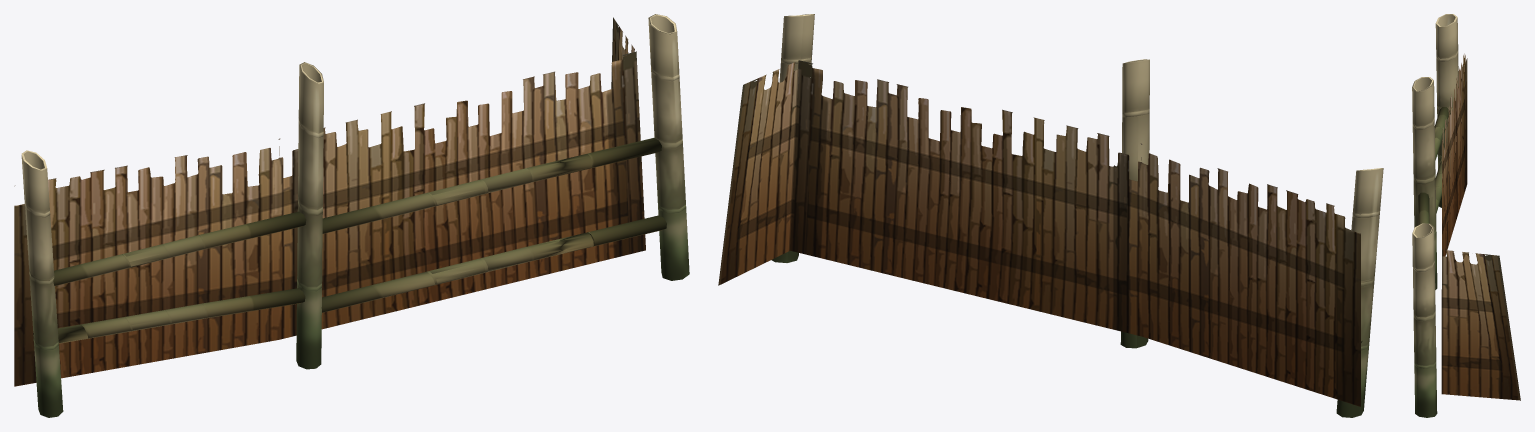
File: hang-rao-ngang.fbx
3 renders of one model, left to right at view 1: azimuth 30°, elevation 25°; view 2: azimuth 150°, elevation 25°; view 3: azimuth 270°, elevation 25°, orthographic. The views are drawn at different scales.
Parts seen in each view (by area): view 1: polySurface24, polySurface19, polySurface18, polySurface20, polySurface10, polySurface9, polySurface11, polySurface12; view 2: polySurface24, polySurface20, polySurface19, polySurface18; view 3: polySurface24, polySurface18, polySurface19, polySurface20, polySurface11, polySurface9, polySurface12.
Part boxes in pixels (box(x1,y1,x2,y2)): polySurface24: box(14, 17, 645, 386); polySurface19: box(296, 62, 323, 369); polySurface18: box(648, 14, 689, 280); polySurface20: box(21, 150, 63, 417); polySurface10: box(321, 215, 666, 312); polySurface9: box(322, 137, 661, 233); polySurface11: box(53, 211, 306, 285); polySurface12: box(33, 288, 305, 343); polySurface24: box(718, 60, 1360, 406); polySurface20: box(1336, 168, 1383, 417); polySurface19: box(1120, 59, 1149, 348); polySurface18: box(771, 14, 814, 262); polySurface24: box(1441, 53, 1520, 400); polySurface18: box(1412, 223, 1437, 417); polySurface19: box(1412, 77, 1437, 289); polySurface20: box(1435, 14, 1458, 207); polySurface11: box(1434, 107, 1450, 160); polySurface9: box(1418, 192, 1429, 225); polySurface12: box(1435, 157, 1441, 213).
Size of the model in its own units: 8.64 by 3.8 by 1.78.
